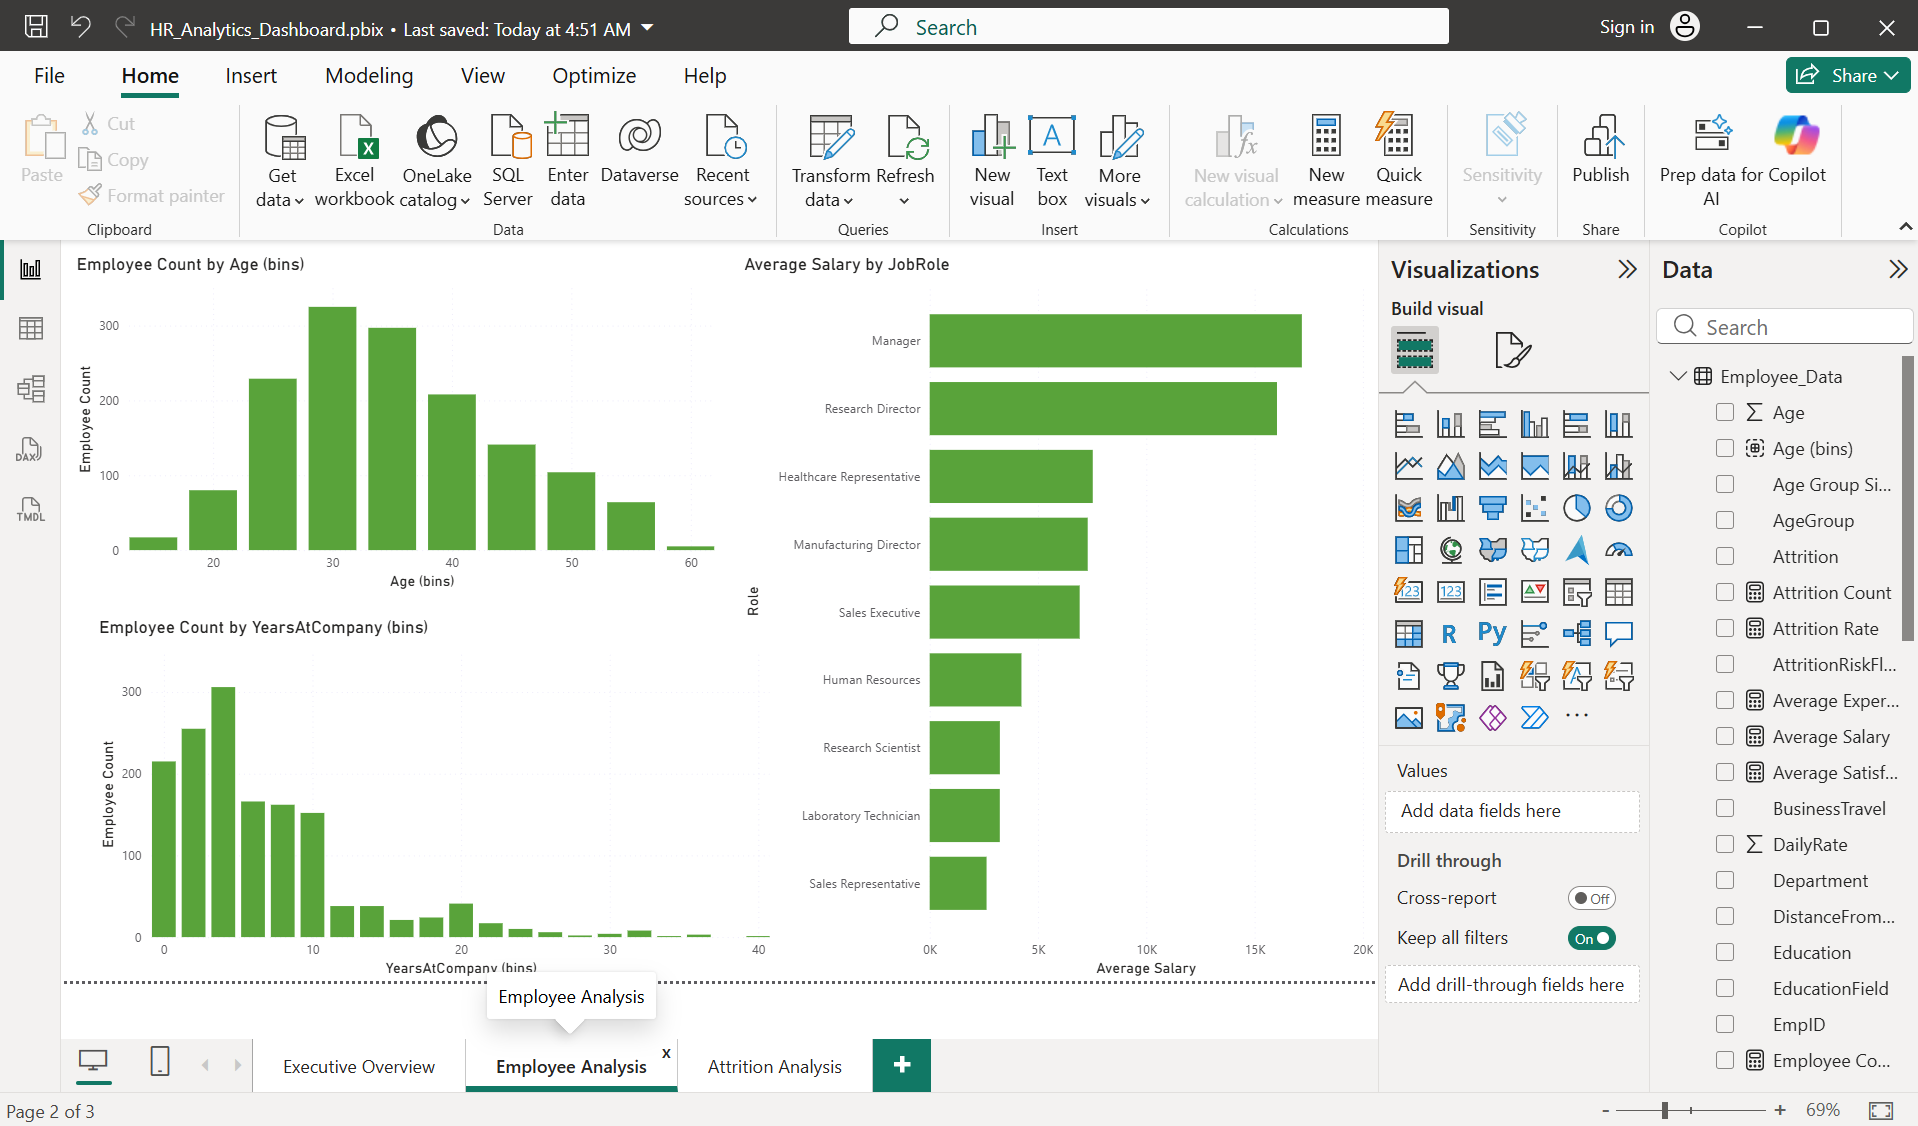

The page's visual inventory and layout, read from the dashboard file:
{"tool":"powerbi","page":{"name":"Employee Analysis","canvas":[1280,720],"ordinal":1},"visuals":[{"type":"clusteredColumnChart","fields":{"Category":["Employee_Data.Age (bins)"],"Y":["Employee_Data.Employee Count"]},"box":[10.2,13.1,629.8,330.9],"z":0},{"type":"clusteredBarChart","fields":{"Y":["Employee_Data.Average Salary"],"Category":["Employee_Data.JobRole"]},"box":[659,13.1,621,707.1],"z":1},{"type":"clusteredColumnChart","fields":{"Category":["Employee_Data.YearsAtCompany (bins)"],"Y":["Employee_Data.Employee Count"]},"box":[32.1,365.9,661.9,354.3],"z":2}]}

Visuals, with their boxes on the page's 1280x720 design canvas (x1, y1, x2, y2). These are canvas units, not pixel positions in the 1918x1126 screenshot, which may show the page scaled, cropped or inside an application window:
clusteredColumnChart - Employee_Data.Age (bins) x Employee_Data.Employee Count: box(10, 13, 640, 344)
clusteredBarChart - Employee_Data.Average Salary x Employee_Data.JobRole: box(659, 13, 1280, 720)
clusteredColumnChart - Employee_Data.YearsAtCompany (bins) x Employee_Data.Employee Count: box(32, 366, 694, 720)
